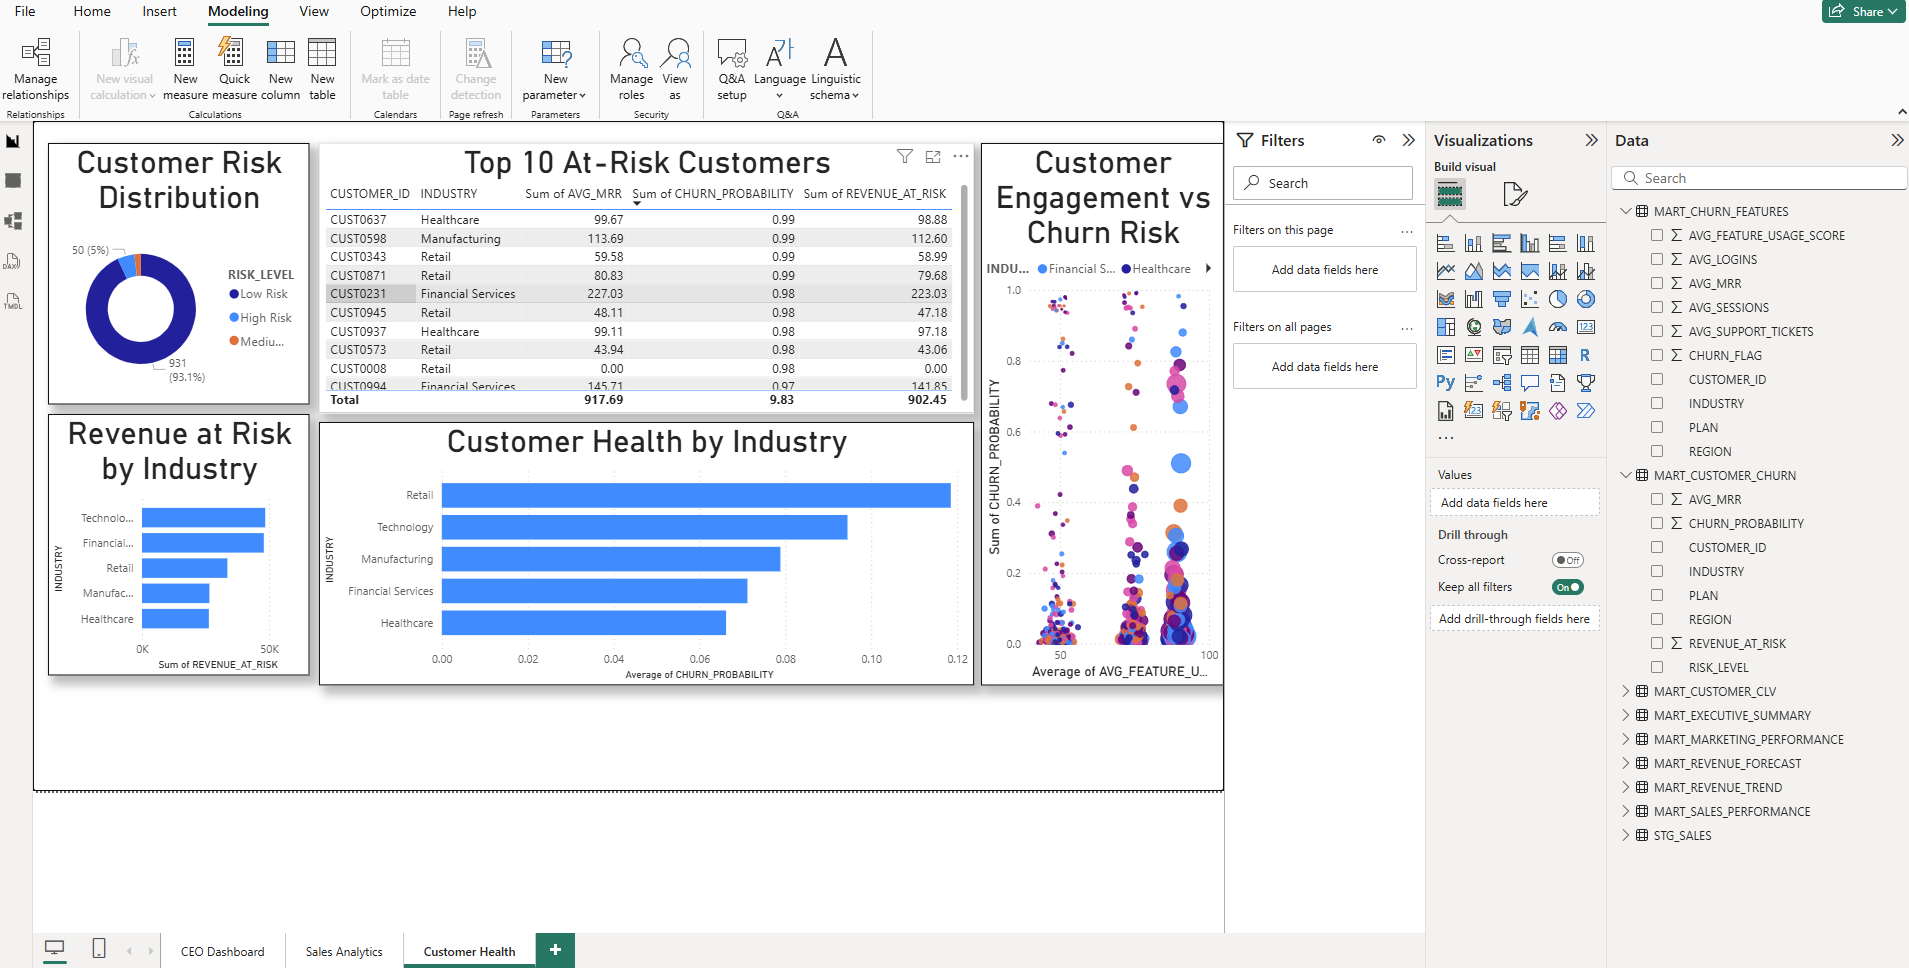

Layout of this report page (visuals, bound fields, positions):
{"tool":"powerbi","page":{"name":"Customer Health","canvas":[1280,720],"ordinal":2},"visuals":[{"type":"card","title":"High-Risk Customers","fields":{"Values":["Count(MART_CUSTOMER_CHURN.CUSTOMER_ID)"]},"box":[7.3,18.8,382.4,145.2],"z":0},{"type":"card","title":"Revenue At Risk","fields":{"Values":["Sum(MART_CUSTOMER_CHURN.REVENUE_AT_RISK)"]},"box":[449.3,18.8,381.4,149.4],"z":1000},{"type":"card","title":"Average Churn Probability","fields":{"Values":["Avg(MART_CUSTOMER_CHURN.CHURN_PROBABILITY)"]},"box":[864.1,18.8,401.2,157.8],"z":2000},{"type":"donutChart","title":"Customer Risk Distribution","fields":{"Category":["MART_CUSTOMER_CHURN.RISK_LEVEL"],"Y":["CountNonNull(MART_CUSTOMER_CHURN.CUSTOMER_ID)"]},"box":[17.8,202.7,372,244.5],"z":3000},{"type":"clusteredBarChart","title":"Revenue at Risk by Industry","fields":{"Category":["MART_CUSTOMER_CHURN.INDUSTRY"],"Y":["Sum(MART_CUSTOMER_CHURN.REVENUE_AT_RISK)"]},"box":[450.4,202.7,380.3,244.5],"z":4000},{"type":"clusteredBarChart","title":"Feature Usage by Industry","fields":{"Category":["MART_CHURN_FEATURES.INDUSTRY"],"Y":["Avg(MART_CHURN_FEATURES.AVG_FEATURE_USAGE_SCORE)"]},"box":[872.5,202.7,392.9,244.5],"z":5000},{"type":"tableEx","title":"Top At-Risk Customers","fields":{"Values":["MART_CHURN_FEATURES.CUSTOMER_ID","MART_CHURN_FEATURES.INDUSTRY","Sum(MART_CHURN_FEATURES.AVG_MRR)","Sum(MART_CUSTOMER_CLV.CHURN_PROBABILITY)","Sum(MART_CUSTOMER_CLV.REVENUE_AT_RISK)"]},"box":[244.5,457.7,719.9,262.3],"z":6000},{"type":"actionButton","box":[0,0,100,40],"z":7000}]}

Visuals, with their boxes on the page's 1280x720 design canvas (x1, y1, x2, y2). These are canvas units, not pixel positions in the 1909x968 screenshot, which may show the page scaled, cropped or inside an application window:
"High-Risk Customers" card: Rect(7, 19, 390, 164)
"Revenue At Risk" card: Rect(449, 19, 831, 168)
"Average Churn Probability" card: Rect(864, 19, 1265, 177)
"Customer Risk Distribution" donutChart: Rect(18, 203, 390, 447)
"Revenue at Risk by Industry" clusteredBarChart: Rect(450, 203, 831, 447)
"Feature Usage by Industry" clusteredBarChart: Rect(872, 203, 1265, 447)
"Top At-Risk Customers" tableEx: Rect(244, 458, 964, 720)
actionButton: Rect(0, 0, 100, 40)
